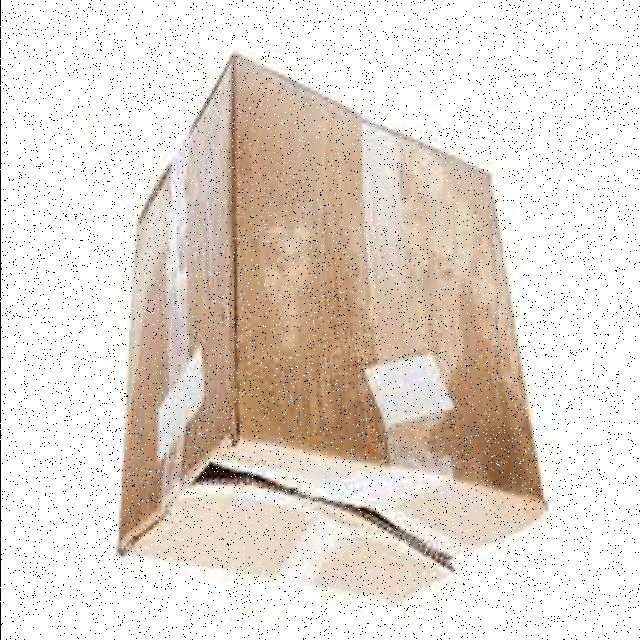defect: (112, 49, 551, 617)
